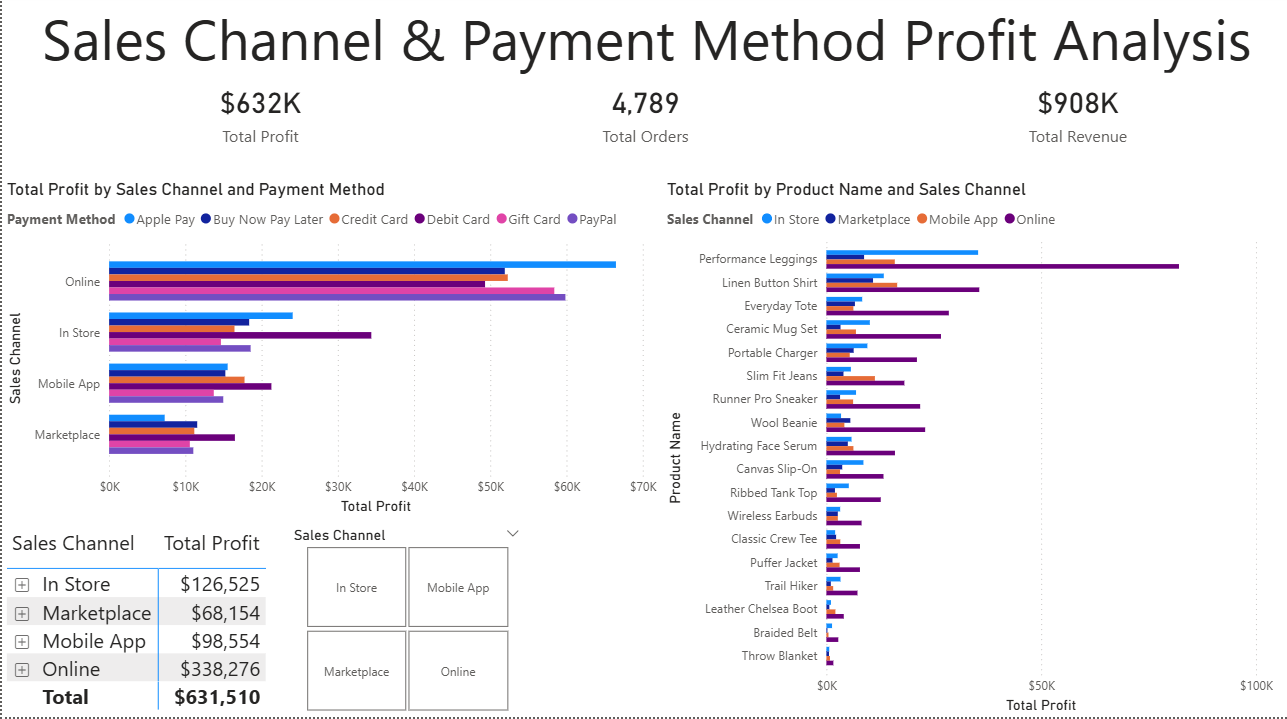

This screenshot's page, from the dashboard's own definition file:
{"tool":"powerbi","page":{"name":"Sales Channel & Payment Method Profit","canvas":[1280,720],"ordinal":4},"visuals":[{"type":"textbox","box":[34.3,0,1246,247],"z":0},{"type":"card","fields":{"Values":["Measures (3).Total Profit"]},"box":[0,78.4,515,77.1],"z":1000},{"type":"card","fields":{"Values":["Measures (3).Total Orders"]},"box":[527.4,78.4,226.4,77.1],"z":2000},{"type":"card","fields":{"Values":["Measures (3).Total Revenue"]},"box":[921.8,78.4,298.6,77.1],"z":3000},{"type":"pivotTable","fields":{"Rows":["orders.sales_channel","orders.payment_method","products.product_name"],"Values":["Measures (3).Total Profit"]},"box":[0,525,277.4,195.3],"z":4000},{"type":"slicer","fields":{"Values":["orders.sales_channel"]},"box":[34.8,311,419.2,184.1],"z":5000},{"type":"clusteredBarChart","fields":{"Category":["orders.sales_channel"],"Y":["Measures (3).Total Profit"],"Series":["orders.payment_method"]},"box":[0,184.1,656.8,338.4],"z":6000},{"type":"clusteredBarChart","fields":{"Category":["products.product_name"],"Y":["Measures (3).Total Profit"],"Series":["orders.sales_channel"]},"box":[656.8,184.1,613.3,536.1],"z":7000},{"type":"slicer","fields":{"Values":["orders.sales_channel"]},"box":[277.4,525,250,195.3],"z":8000}]}

Visuals, with their boxes in screenshot pixels (x1, y1, x2, y2), scaled from the page's 1280x720 canvas onto the 1287x719 screenshot:
textbox: Rect(34, 0, 1286, 247)
card - Measures (3).Total Profit: Rect(0, 78, 518, 155)
card - Measures (3).Total Orders: Rect(530, 78, 758, 155)
card - Measures (3).Total Revenue: Rect(927, 78, 1227, 155)
pivotTable - orders.sales_channel x orders.payment_method: Rect(0, 524, 279, 718)
slicer - orders.sales_channel: Rect(35, 311, 456, 494)
clusteredBarChart - orders.sales_channel x Measures (3).Total Profit: Rect(0, 184, 660, 522)
clusteredBarChart - products.product_name x Measures (3).Total Profit: Rect(660, 184, 1277, 718)
slicer - orders.sales_channel: Rect(279, 524, 530, 718)
